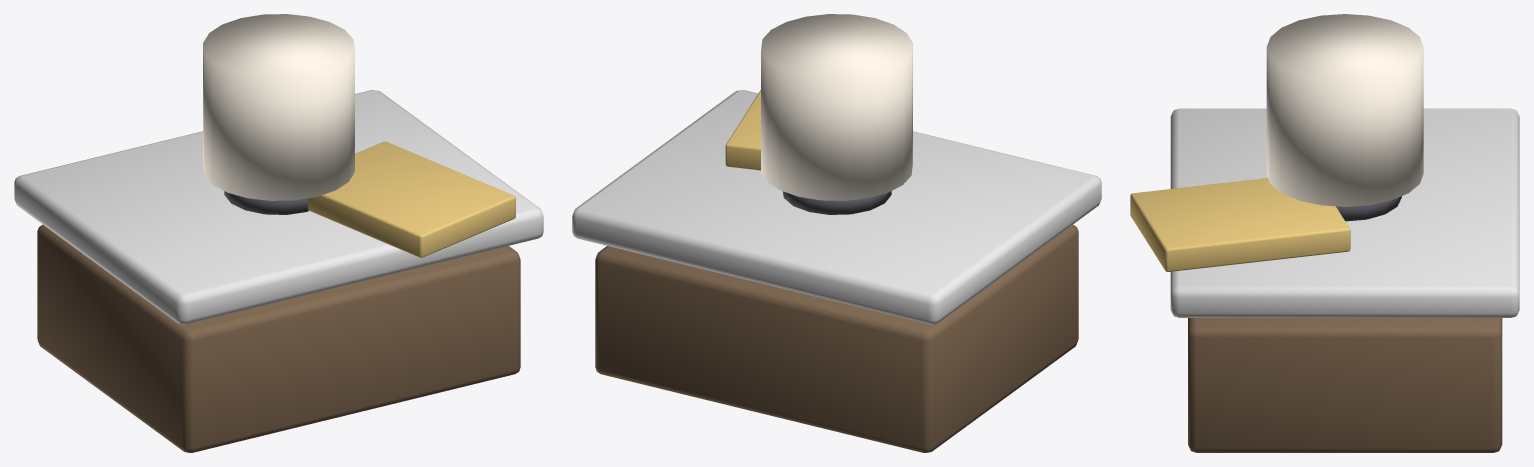
The model's file is Modern_Nightstand.fbx.
3 renders of one model, left to right at view 1: azimuth 30°, elevation 25°; view 2: azimuth 150°, elevation 25°; view 3: azimuth 270°, elevation 25°, orthographic. The views are drawn at different scales.
Parts seen in each view (by area): view 1: Modern_Nightstand; view 2: Modern_Nightstand; view 3: Modern_Nightstand.
Part boxes in pixels (x1=…): Modern_Nightstand: x1=14, y1=14, x2=543, y2=452; Modern_Nightstand: x1=572, y1=14, x2=1101, y2=452; Modern_Nightstand: x1=1130, y1=14, x2=1519, y2=452.
Bounding box in the file's own units: 50 × 41 × 44.62.
